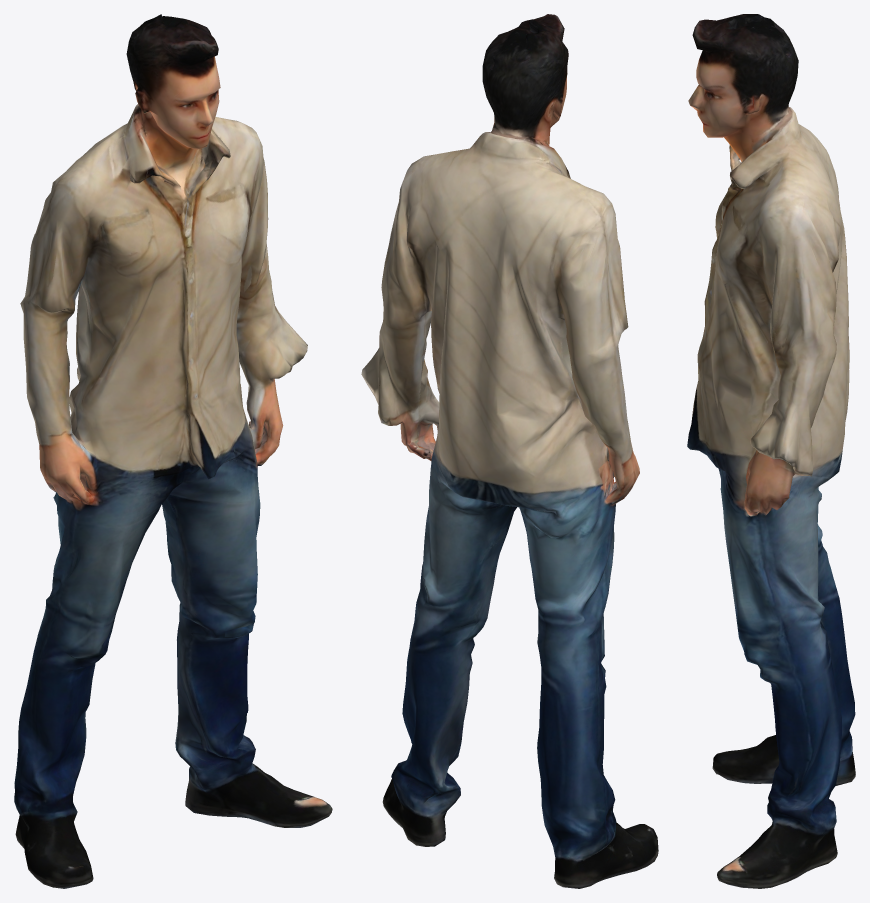
File: male_human_3_static.glb
The picture shows the model from 3 angles, left to right: view 1: azimuth 30°, elevation 25°; view 2: azimuth 150°, elevation 25°; view 3: azimuth 270°, elevation 25°; orthographic projection. The views are drawn at different scales.
Parts seen in each view (by area): view 1: Object_4; view 2: Object_4; view 3: Object_4.
Boxes of the visible parts, <box> form: Object_4: <box>14,14,332,888</box>; Object_4: <box>361,14,658,888</box>; Object_4: <box>687,14,855,888</box>.
Bounding box in the file's own units: 0.7123 × 2 × 0.3763.
1 material, 1 textured.
